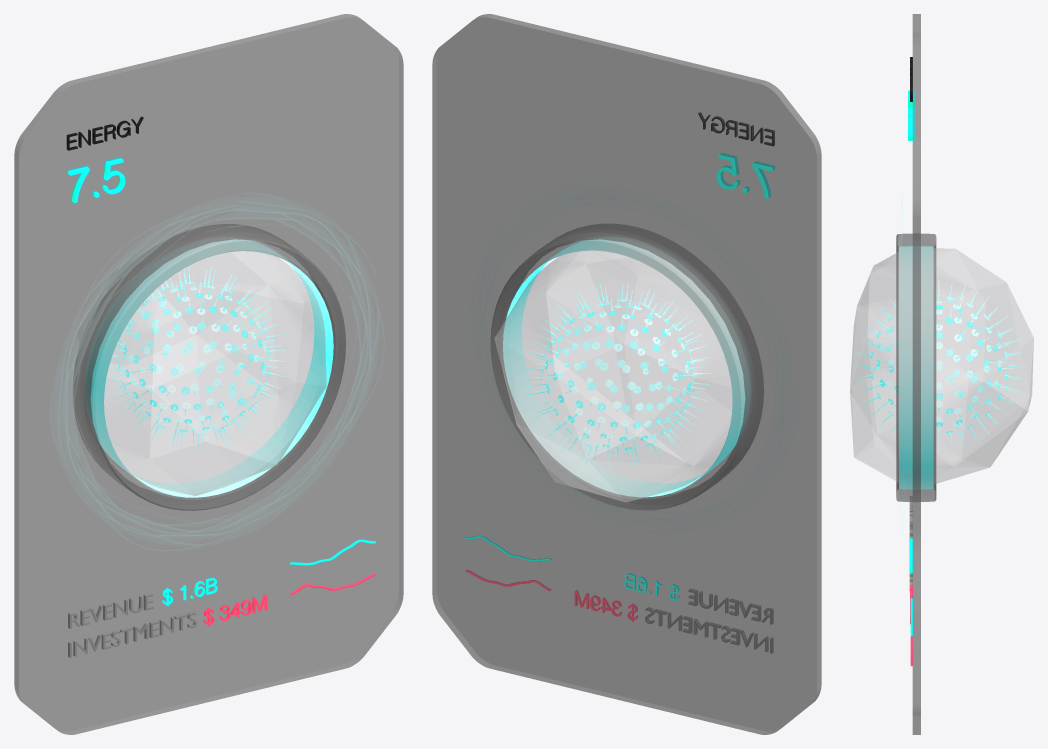
3 views of the same model, side by side, from view 1: azimuth 30°, elevation 25°; view 2: azimuth 150°, elevation 25°; view 3: azimuth 270°, elevation 25° (orthographic). The views are drawn at different scales.
Visible parts, largest first — view 1: baseGreen.003, Glass.002, Corner.002, neon-corner.004, baseCorner.003, neon-sphereBase.003, Text.012, neon-sphere.005, neon-rimGreen.003, Text.006, Text.014, Text.016 (+1 smaller); view 2: baseGreen.003, Glass.002, Corner.002, neon-corner.004, baseCorner.003, neon-sphere.005, Text.012, Text.006, Text.014, Text.016; view 3: Glass.002, Corner.002, neon-corner.004, baseCorner.003, neon-sphere.005, neon-sphereBase.003, Text.014.
Part boxes in pixels (left/top/right/bottom): baseGreen.003: left=14, top=14, right=403, bottom=734; Glass.002: left=104, top=251, right=326, bottom=495; Corner.002: left=74, top=224, right=345, bottom=510; neon-corner.004: left=85, top=237, right=333, bottom=497; baseCorner.003: left=14, top=14, right=403, bottom=734; neon-sphereBase.003: left=117, top=282, right=270, bottom=434; Text.012: left=68, top=611, right=196, bottom=657; neon-sphere.005: left=112, top=266, right=278, bottom=449; neon-rimGreen.003: left=66, top=206, right=370, bottom=536; Text.006: left=68, top=593, right=153, bottom=628; Text.014: left=66, top=157, right=125, bottom=203; Text.016: left=66, top=116, right=143, bottom=150; baseGreen.003: left=432, top=14, right=821, bottom=734; Glass.002: left=494, top=251, right=732, bottom=502; Corner.002: left=490, top=224, right=763, bottom=510; neon-corner.004: left=503, top=237, right=750, bottom=497; baseCorner.003: left=432, top=14, right=821, bottom=734; neon-sphere.005: left=524, top=283, right=711, bottom=469; Text.012: left=645, top=607, right=773, bottom=653; Text.006: left=688, top=589, right=773, bottom=624; Text.014: left=716, top=153, right=774, bottom=198; Text.016: left=698, top=112, right=774, bottom=146; Glass.002: left=850, top=248, right=1033, bottom=483; Corner.002: left=896, top=233, right=936, bottom=501; neon-corner.004: left=899, top=246, right=933, bottom=489; baseCorner.003: left=912, top=14, right=920, bottom=734; neon-sphere.005: left=853, top=280, right=1024, bottom=451; neon-sphereBase.003: left=870, top=295, right=1007, bottom=436; Text.014: left=908, top=90, right=914, bottom=140.
Size of the model in its own units: 1.47 by 2.38 by 0.666.
Materials: 8 (1 with a texture image).
